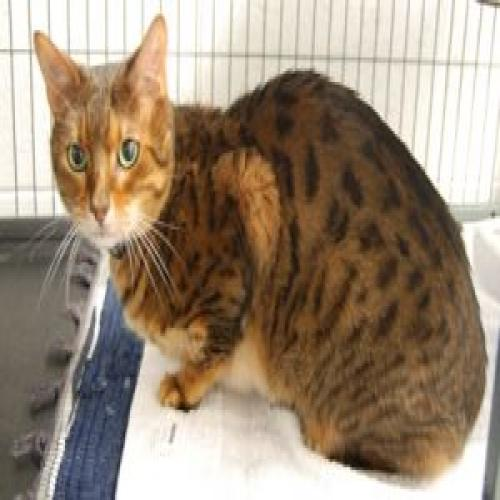bengal: (30, 9, 183, 261)
